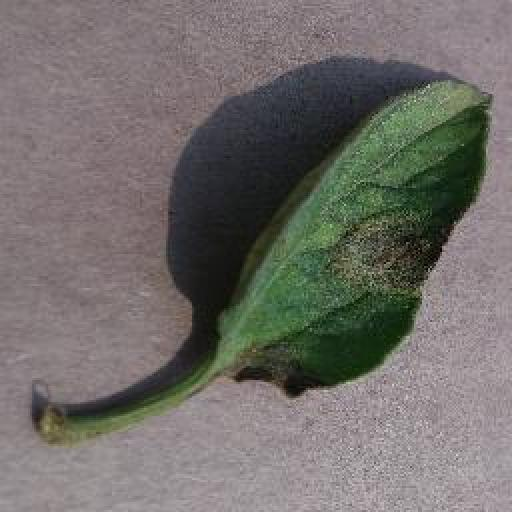Late Blight: (215, 78, 496, 402)
